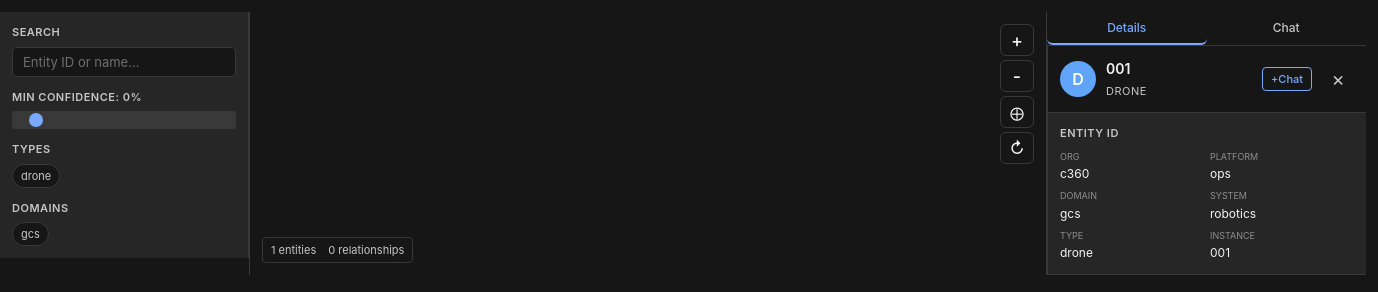
DataView — DataViewContext passed to ChatPanel › ChatPanel receives selectedEntityId from graphStore when entity is selected
What coordinates should you click on to do the following:
click the tab with test id "data-view-tab-chat"
I would click on:
 (1286, 28)
Its box is [1206,12,1366,45].
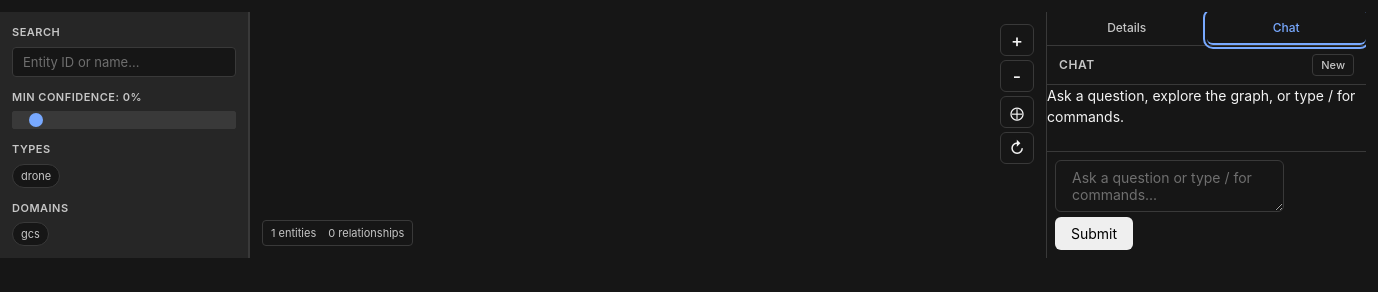
expect the element with test id "chat-panel" is shown: met, box [1047,46,1366,258]
